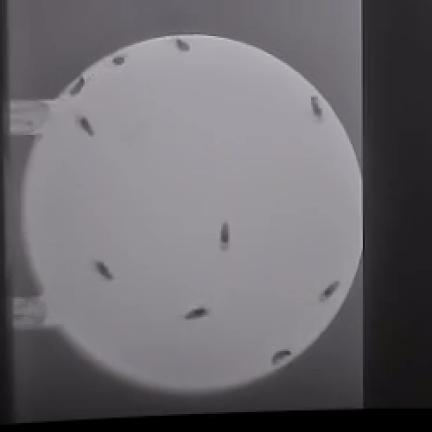fly: (320, 281, 340, 300), (96, 261, 114, 280), (185, 306, 209, 320), (78, 117, 95, 136), (272, 350, 292, 365), (70, 78, 86, 95), (312, 96, 323, 116), (220, 222, 229, 246), (177, 38, 190, 52), (113, 56, 126, 66)
